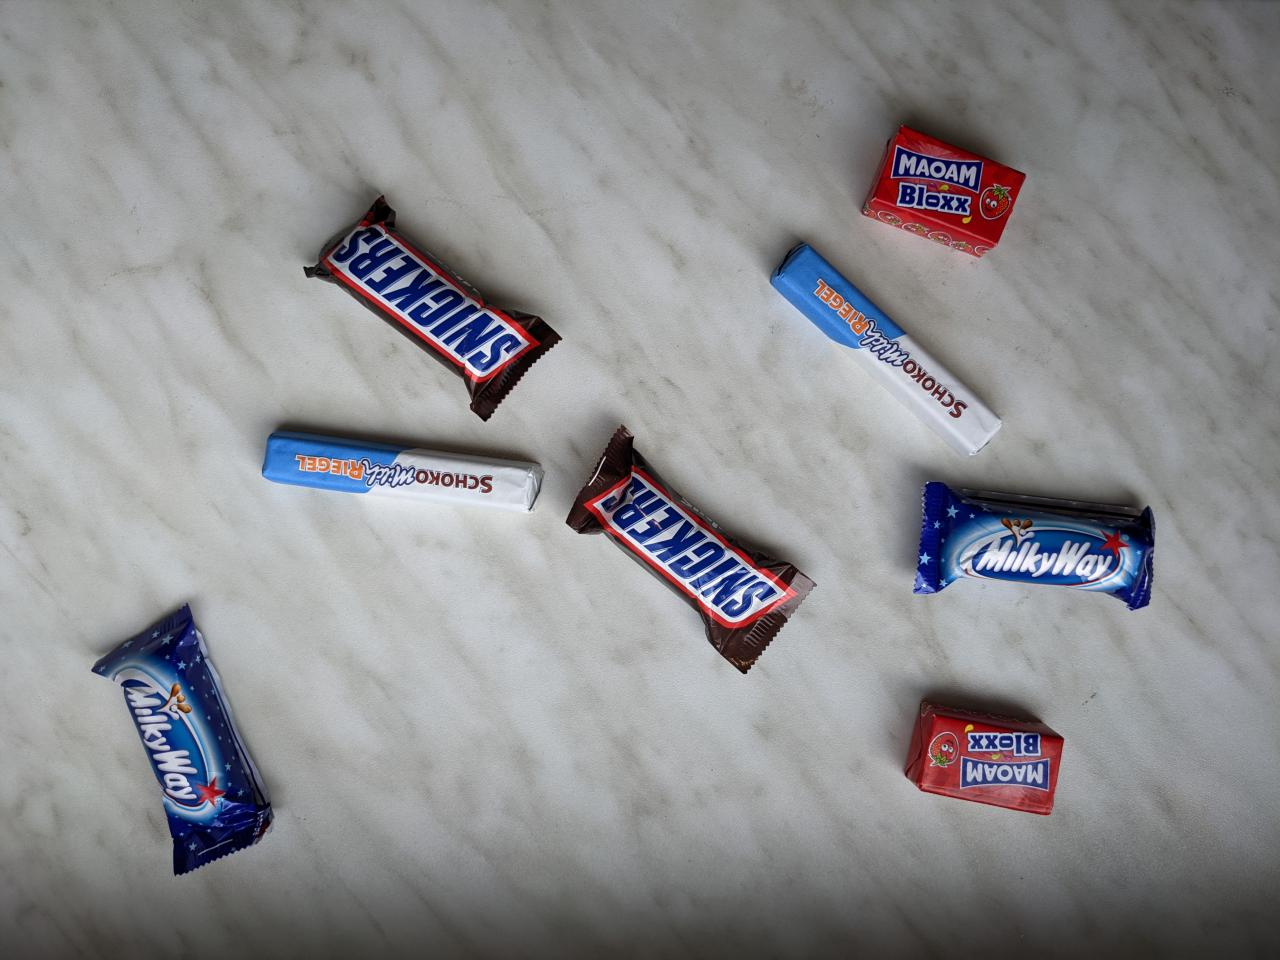MAOAM: (856, 118, 1032, 262), (898, 692, 1067, 822)
MilkyWay: (85, 596, 279, 880), (906, 475, 1160, 616)
Schokoriegel: (762, 236, 1008, 464), (256, 427, 549, 518)
Snickers: (559, 419, 824, 681), (295, 189, 567, 428)
